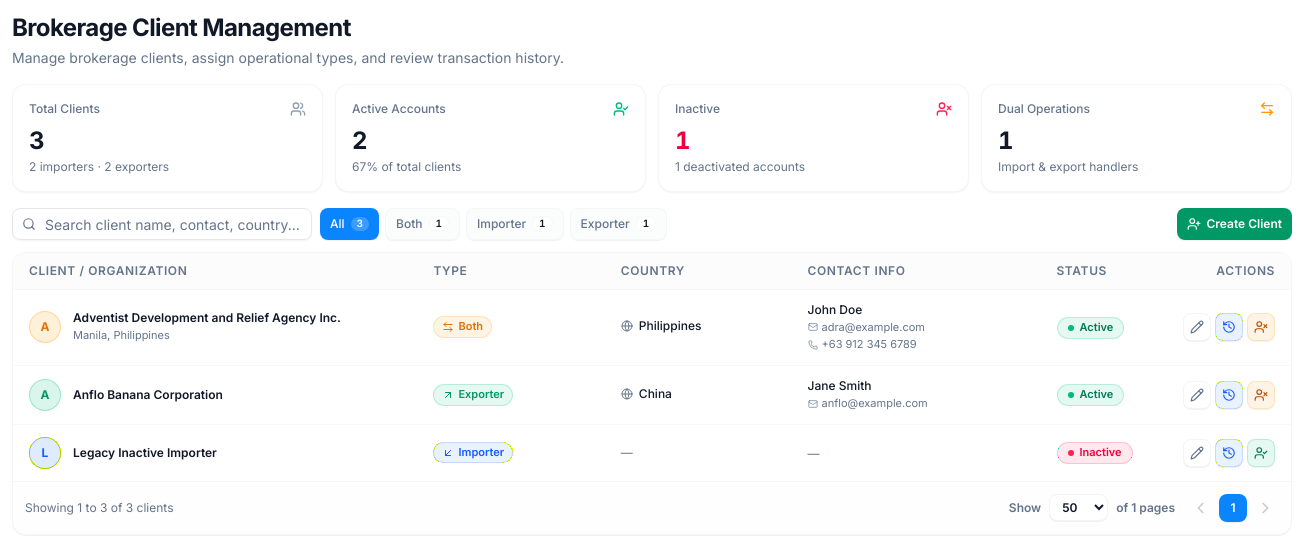
Test case: ClientManagement › filters clients by search input
Type "Banana" into the field with placeholder "Search client name, contact, country..." at x=162, y=224, box [12,208,312,240]
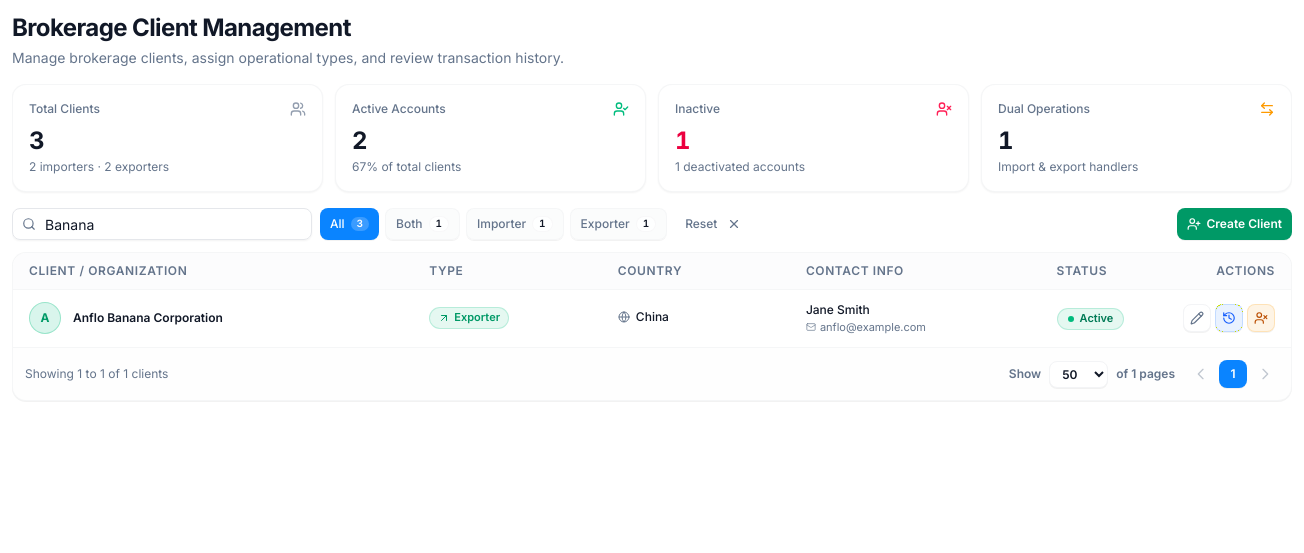
Expected: the text "Anflo Banana Corporation" is shown, [73,310,223,326]
Expected: the text "Adventist Development and Relief Agency Inc." is gone
